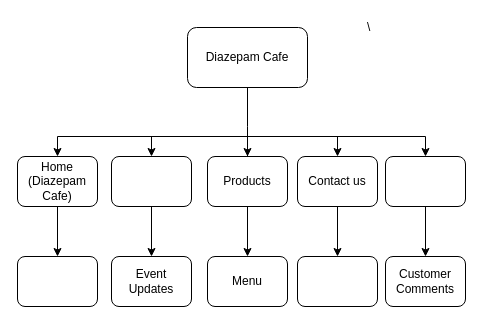
Some shapes in this 483 by 324 pixel diagram are drawn without their labels. The centre of each missing label's shape, as x and y in pixels:
"About Diazepam Cafe" goes at (x=57, y=281).
"Announcement" goes at (x=151, y=181).
"Contact Information" goes at (x=337, y=281).
"Feedback" goes at (x=425, y=181).
